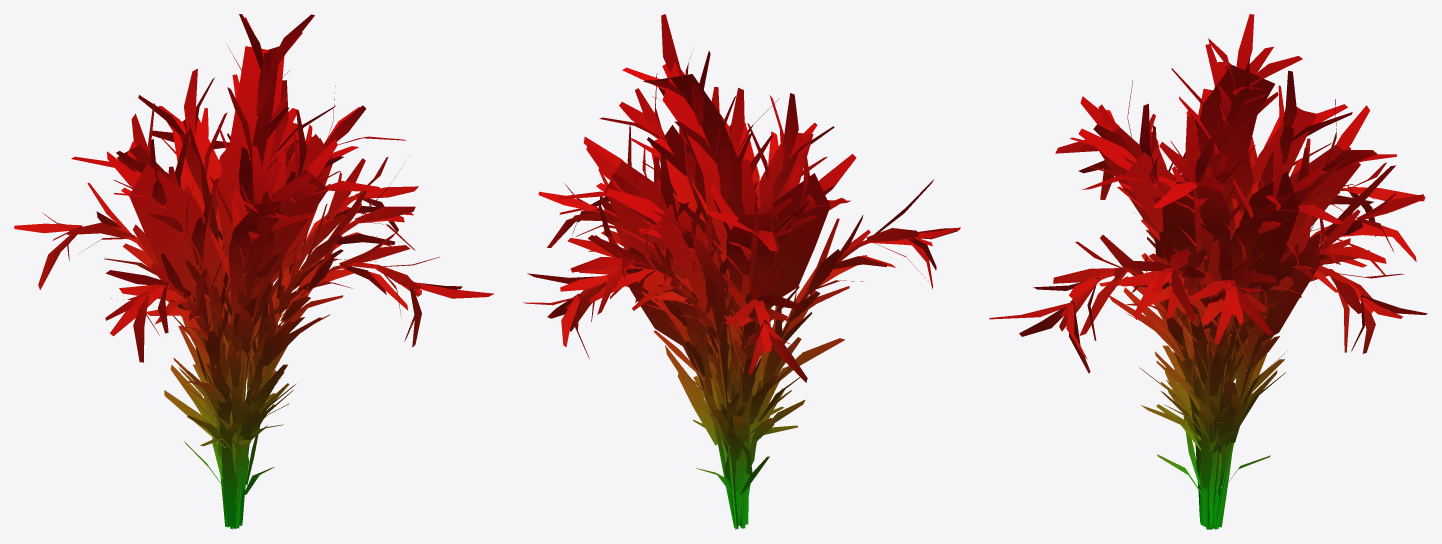
Rendered from Var9_LOD4.fbx.
3 renders of one model, left to right at view 1: azimuth 30°, elevation 25°; view 2: azimuth 150°, elevation 25°; view 3: azimuth 270°, elevation 25°, orthographic. The views are drawn at different scales.
Parts seen in each view (by area): view 1: _jewe_Var9_LOD4; view 2: _jewe_Var9_LOD4; view 3: _jewe_Var9_LOD4.
Boxes of the visible parts, x1,y1,x2,y2 form: _jewe_Var9_LOD4: (14,14,494,529); _jewe_Var9_LOD4: (523,14,960,529); _jewe_Var9_LOD4: (989,14,1427,529).
Size of the model in its own units: 24.74 by 33.02 by 24.79.
